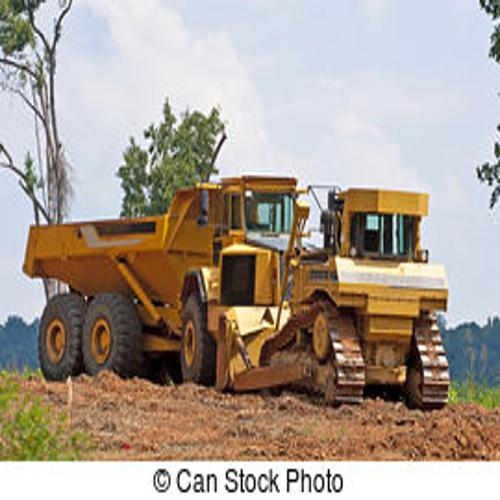con_eq: (21, 176, 293, 388), (258, 161, 458, 414)
